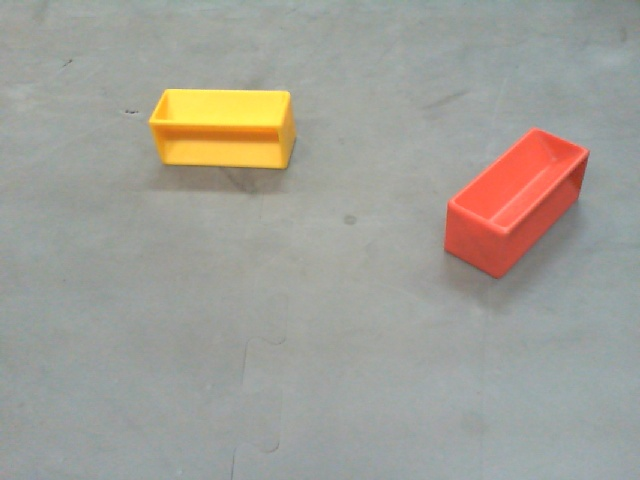RedSample: (441, 129, 588, 275)
YellowSample: (149, 85, 299, 177)
